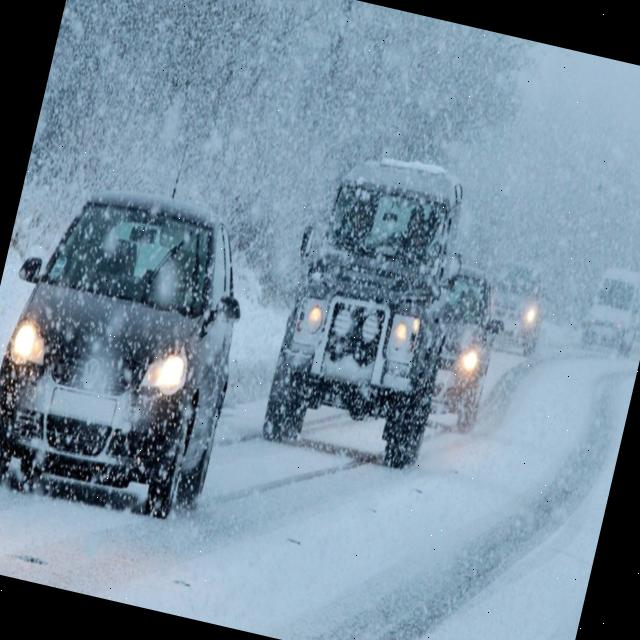car: (0, 173, 267, 536), (258, 142, 480, 472), (422, 264, 513, 438), (472, 251, 556, 360), (579, 263, 640, 357)
